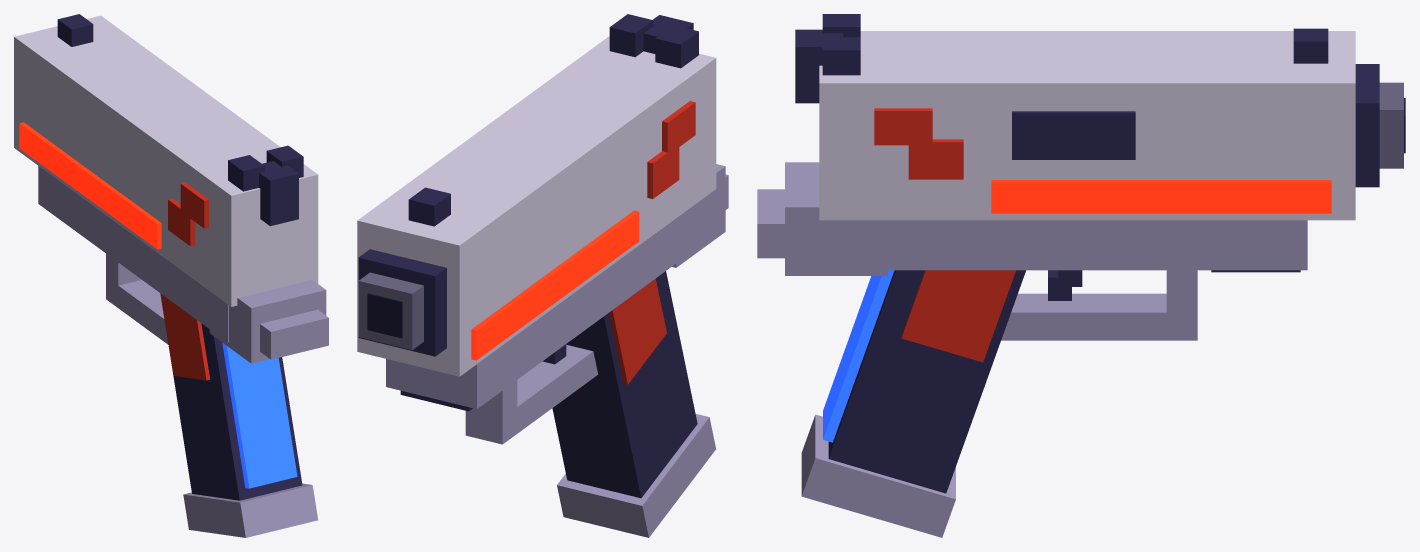
Rendered from pistol.lod1.glb.
The picture shows the model from 3 angles, left to right: view 1: azimuth 30°, elevation 25°; view 2: azimuth 150°, elevation 25°; view 3: azimuth 270°, elevation 25°; orthographic projection. The views are drawn at different scales.
Parts seen in each view (by area): view 1: part.slide, item.pistol.body, part.mag; view 2: part.slide, item.pistol.body, part.mag; view 3: part.slide, item.pistol.body, part.mag.
Part boxes in pixels (x1=…): part.slide: x1=14, y1=14, x2=318, y2=306; item.pistol.body: x1=38, y1=161, x2=328, y2=500; part.mag: x1=183, y1=483, x2=317, y2=537; part.slide: x1=357, y1=14, x2=716, y2=376; item.pistol.body: x1=358, y1=15, x2=728, y2=498; part.mag: x1=557, y1=414, x2=715, y2=537; part.slide: x1=819, y1=14, x2=1355, y2=220; item.pistol.body: x1=757, y1=29, x2=1405, y2=493; part.mag: x1=801, y1=414, x2=955, y2=537.
Size of the model in its own units: 0.125 by 0.4854 by 0.5891.
